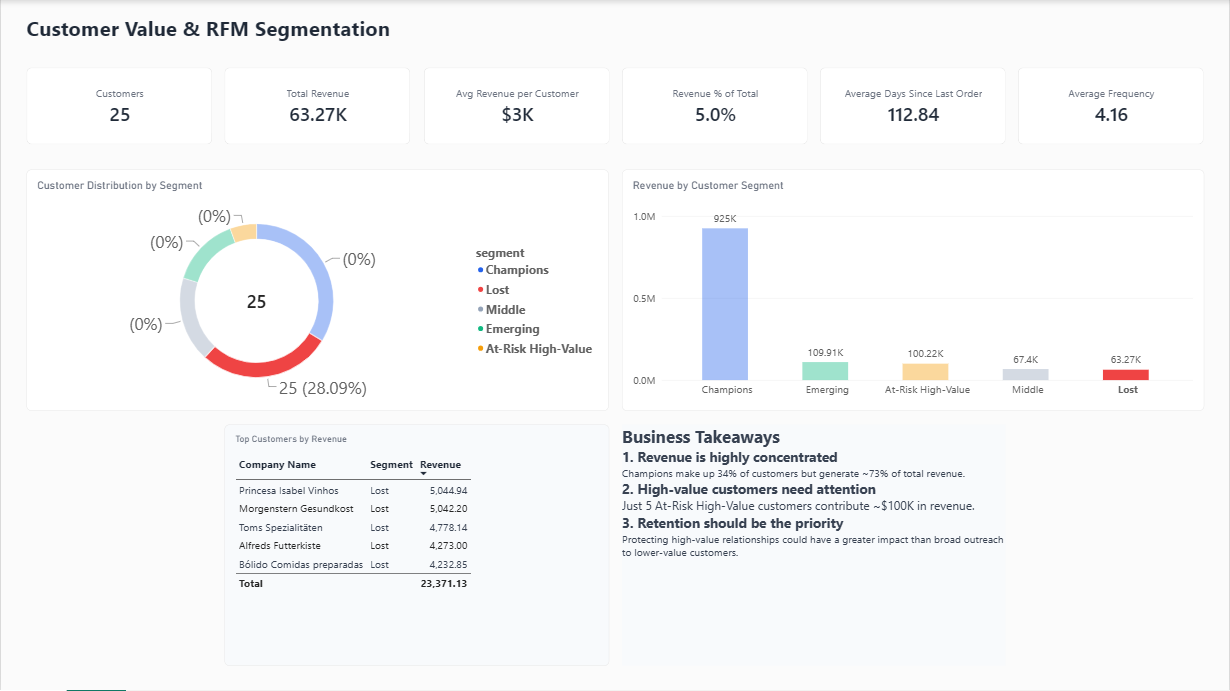

What the dashboard file says about the page in this screenshot:
{"tool":"powerbi","page":{"name":"Page 1","canvas":[1920,1080],"ordinal":0},"visuals":[{"type":"donutChart","title":"Customer Distribution by Segment","fields":{"Category":["public rfm_analysis.segment"],"Y":["CountNonNull(public rfm_analysis.segment)"]},"box":[40,265,910,377.5],"z":0},{"type":"cardVisual","fields":{"Data":["public rfm_analysis.Total Revenue1"]},"box":[350,105,290,120],"z":2},{"type":"cardVisual","fields":{"Data":["public rfm_analysis.Customers"]},"box":[40,105,290,120],"z":3},{"type":"cardVisual","fields":{"Data":["public rfm_analysis.Avg Revenue per Customer"]},"box":[660,105,290,120],"z":4},{"type":"cardVisual","fields":{"Data":["public rfm_analysis.Revenue % of Total"]},"box":[970,105,290,120],"z":6},{"type":"columnChart","title":"Revenue by Customer Segment","fields":{"Category":["public rfm_analysis.segment"],"Y":["public rfm_analysis.Total Revenue"]},"box":[970,265,910,377.5],"z":7},{"type":"cardVisual","fields":{"Data":["public rfm_analysis.Median Days Since Last Order"]},"box":[1280,105,290,120],"z":8},{"type":"cardVisual","fields":{"Data":["public rfm_analysis.Average Order Duration"]},"box":[1590,105,290,120],"z":9},{"type":"tableEx","title":"Top Customers by Revenue","fields":{"Values":["public rfm_analysis.company_name","public rfm_analysis.segment","public rfm_analysis.Total Revenue"]},"box":[349.6,663.2,601.3,377.5],"z":10},{"type":"textbox","box":[40,20,600,65],"z":11},{"type":"textbox","box":[970.8,663.2,599.3,377.5],"z":12}]}

Visuals, with their boxes in screenshot pixels (x1, y1, x2, y2), scaled from the page's 1920x1080 canvas onto the 1230x691 screenshot:
"Customer Distribution by Segment" donutChart: x1=26 y1=170 x2=609 y2=411
cardVisual - public rfm_analysis.Total Revenue1: x1=224 y1=67 x2=410 y2=144
cardVisual - public rfm_analysis.Customers: x1=26 y1=67 x2=211 y2=144
cardVisual - public rfm_analysis.Avg Revenue per Customer: x1=423 y1=67 x2=609 y2=144
cardVisual - public rfm_analysis.Revenue % of Total: x1=621 y1=67 x2=807 y2=144
"Revenue by Customer Segment" columnChart: x1=621 y1=170 x2=1204 y2=411
cardVisual - public rfm_analysis.Median Days Since Last Order: x1=820 y1=67 x2=1006 y2=144
cardVisual - public rfm_analysis.Average Order Duration: x1=1019 y1=67 x2=1204 y2=144
"Top Customers by Revenue" tableEx: x1=224 y1=424 x2=609 y2=666
textbox: x1=26 y1=13 x2=410 y2=54
textbox: x1=622 y1=424 x2=1006 y2=666
